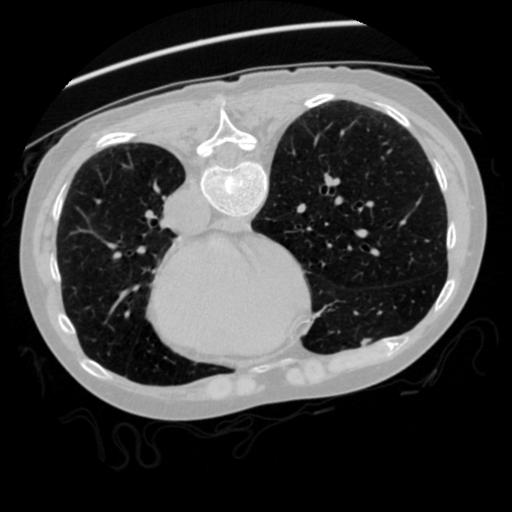nodule: (360, 335, 375, 350)
